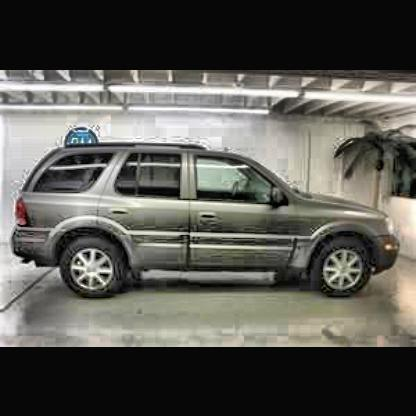Buick Rainier SUV 2007: (8, 139, 407, 305)
